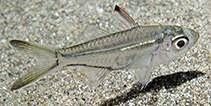Glass Perchlet: (8, 5, 201, 99)
